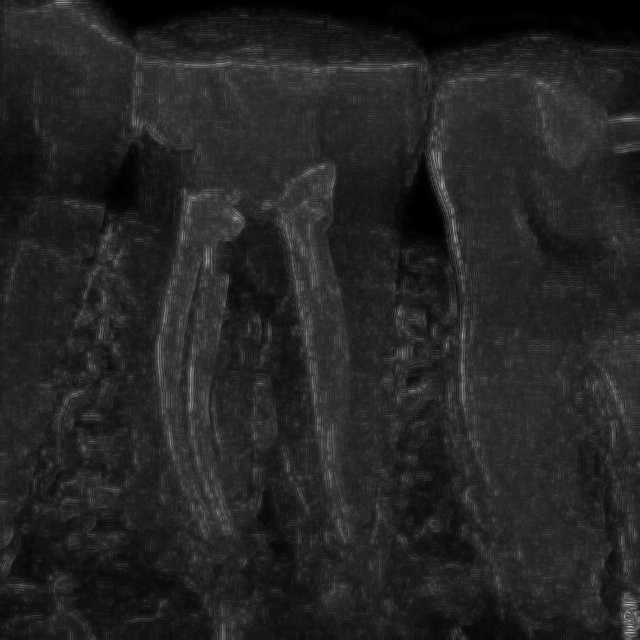Class 0- No endodontic treatment: (124, 72, 438, 597)
